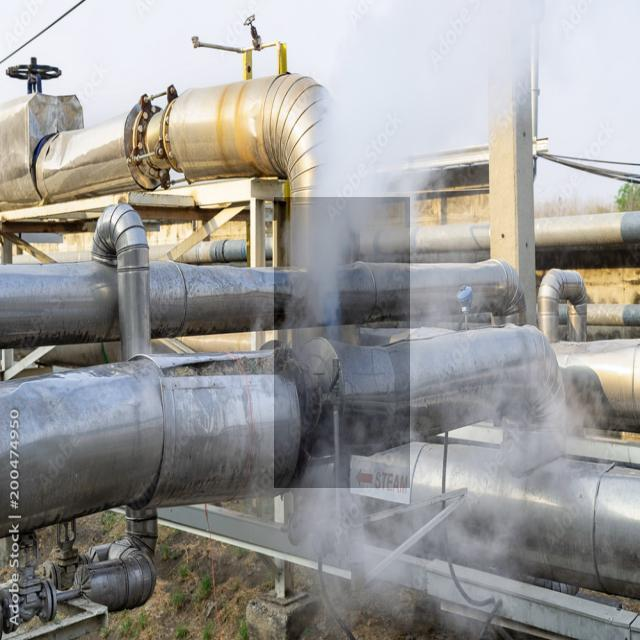corrosion: (230, 168, 415, 408)
